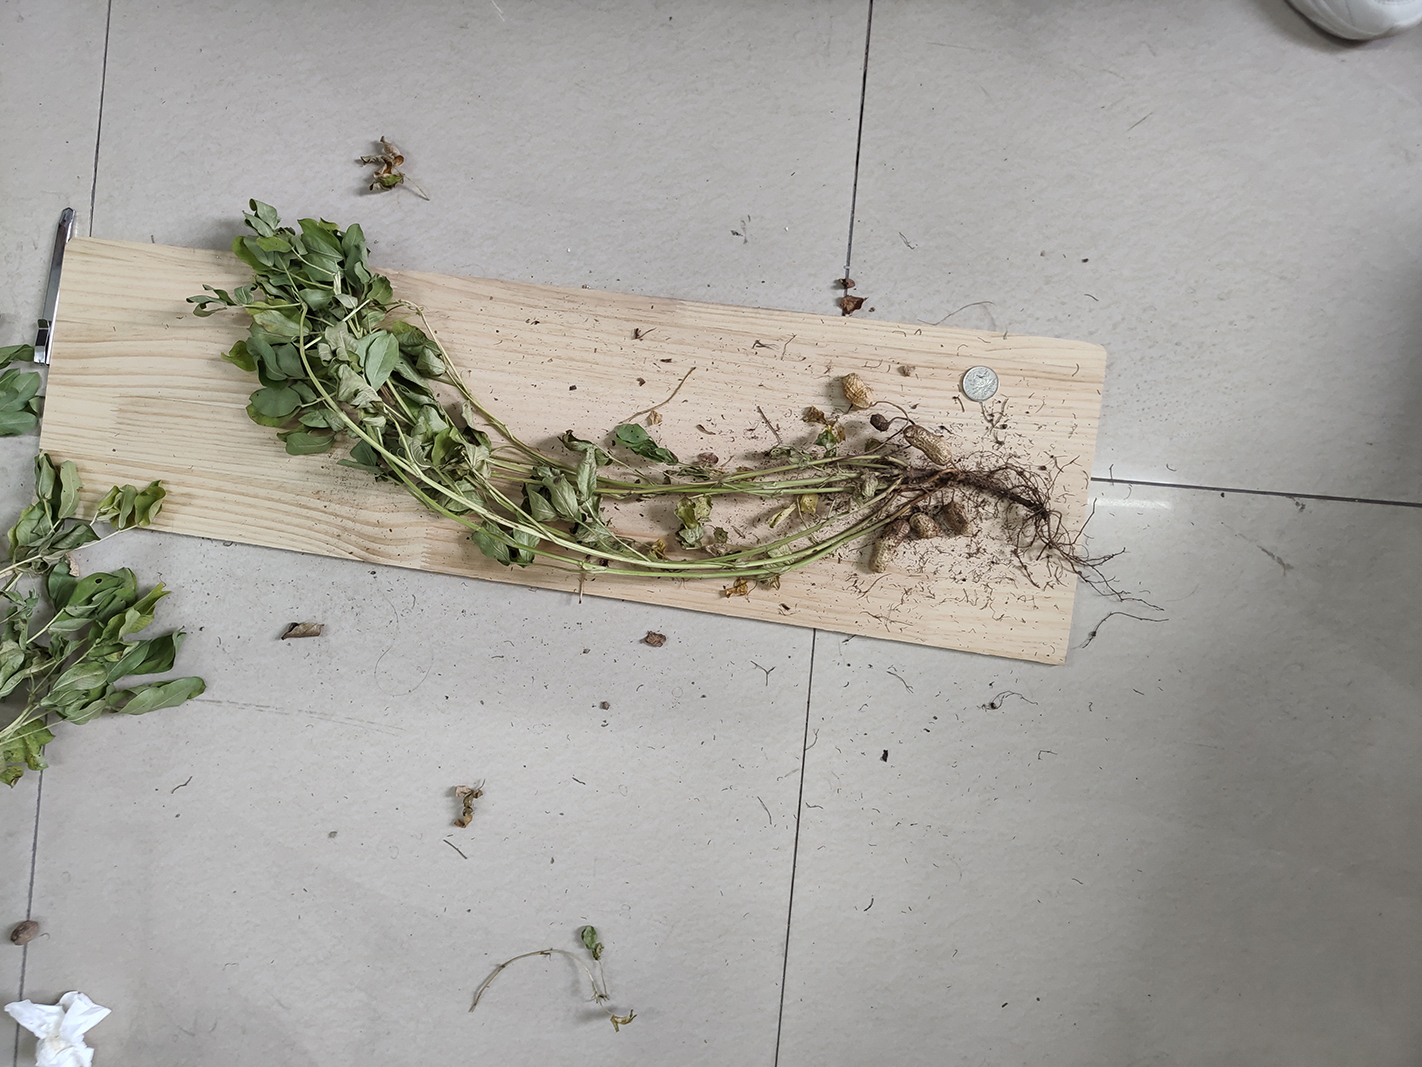h: (870, 518, 911, 572), (903, 425, 952, 465), (909, 512, 939, 537)
l: (944, 502, 972, 533), (870, 412, 890, 432)
